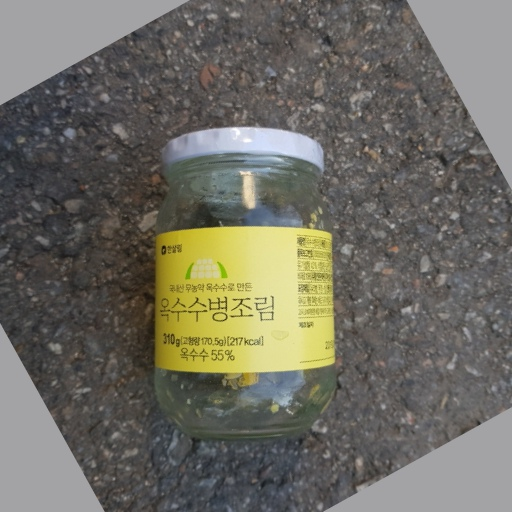Glass_5: (146, 120, 340, 443)
